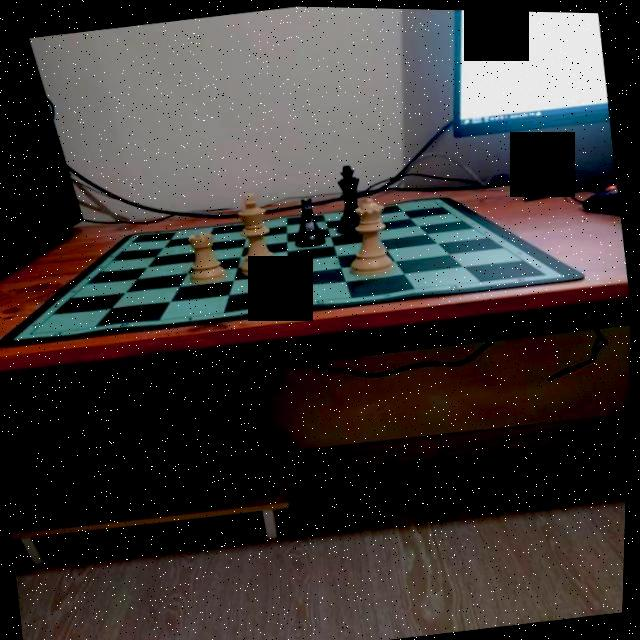chess-table-corners: (17, 326, 46, 344), (536, 264, 560, 282), (424, 190, 446, 206), (129, 228, 152, 242)
